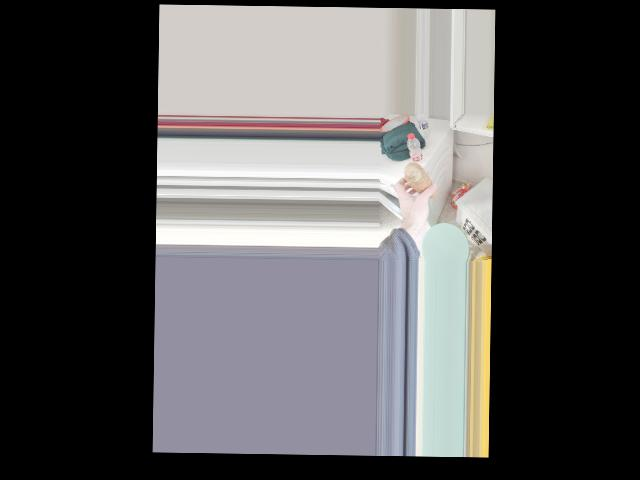sweet_potato: (406, 162, 439, 197)
